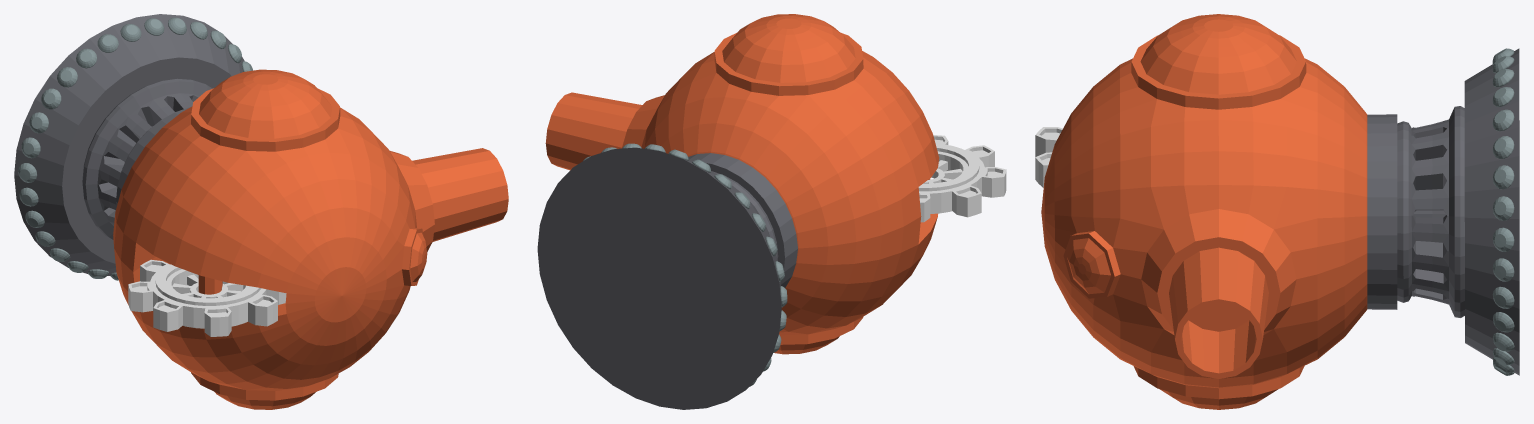
The model's file is LP_GPE_Turret.fbx.
The picture shows the model from 3 angles, left to right: view 1: azimuth 30°, elevation 25°; view 2: azimuth 150°, elevation 25°; view 3: azimuth 270°, elevation 25°; orthographic projection. The views are drawn at different scales.
Visible parts, largest first — view 1: Sphere, Turret, Gear, Bolt; view 2: Sphere, Turret, Gear, Bolt; view 3: Sphere, Turret, Bolt, Gear.
Part boxes in pixels (x1=…): Sphere: x1=113, y1=69, x2=508, y2=409; Turret: x1=14, y1=14, x2=244, y2=275; Gear: x1=128, y1=259, x2=286, y2=336; Bolt: x1=18, y1=17, x2=253, y2=280; Sphere: x1=545, y1=14, x2=939, y2=354; Turret: x1=537, y1=147, x2=797, y2=409; Gear: x1=918, y1=135, x2=1006, y2=222; Bolt: x1=583, y1=143, x2=787, y2=386; Sphere: x1=1041, y1=14, x2=1367, y2=409; Turret: x1=1367, y1=48, x2=1519, y2=375; Bolt: x1=1492, y1=48, x2=1514, y2=375; Gear: x1=1035, y1=127, x2=1062, y2=187.
Size of the model in its own units: 191 by 151 by 177.
